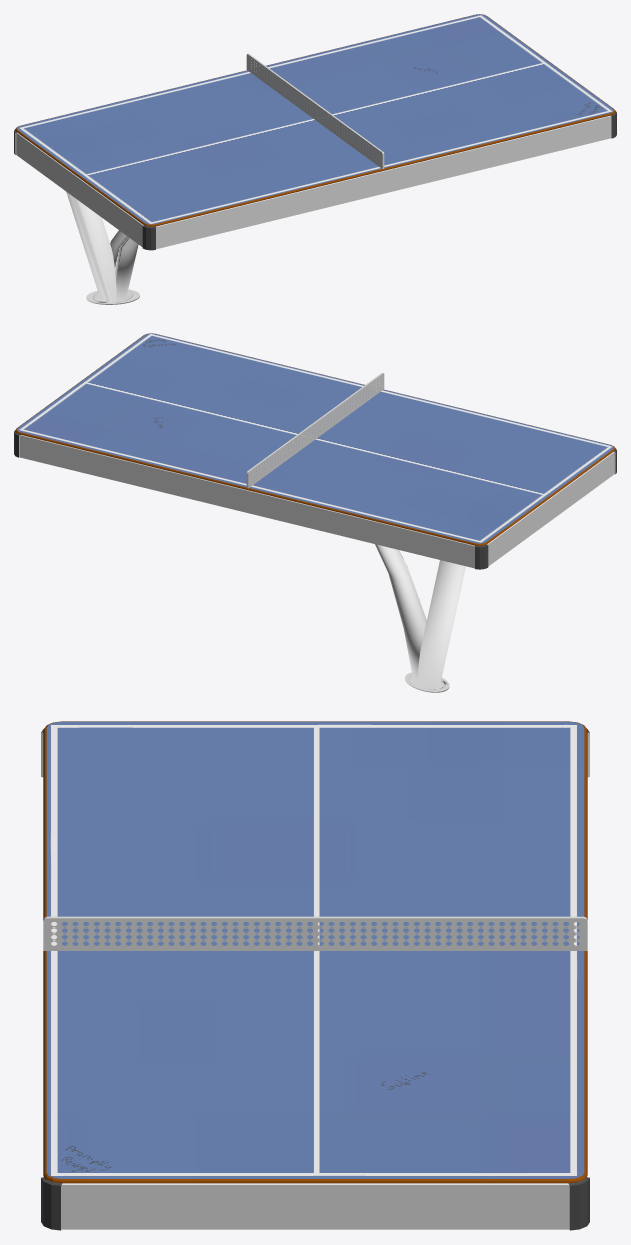
File: tabletennis_high.glb
3 views of the same model, one above another, from view 1: azimuth 30°, elevation 25°; view 2: azimuth 150°, elevation 25°; view 3: azimuth 270°, elevation 25° (orthographic). The views are drawn at different scales.
Parts seen in each view (by area): view 1: Cube, Circle, Cube.002; view 2: Cube, Circle, Cube.002; view 3: Cube, Cube.002.
Boxes of the visible parts, x1,y1,x2,y2 form: Cube: (14,14,616,250); Circle: (66,191,139,304); Cube.002: (246,53,384,169); Cube: (14,333,616,569); Circle: (375,544,465,692); Cube.002: (246,373,384,488); Cube: (41,721,589,1230); Cube.002: (43,916,587,950).
Bounding box in the file's own units: 6.03 × 2.3 × 3.03.
4 materials, 1 textured.
